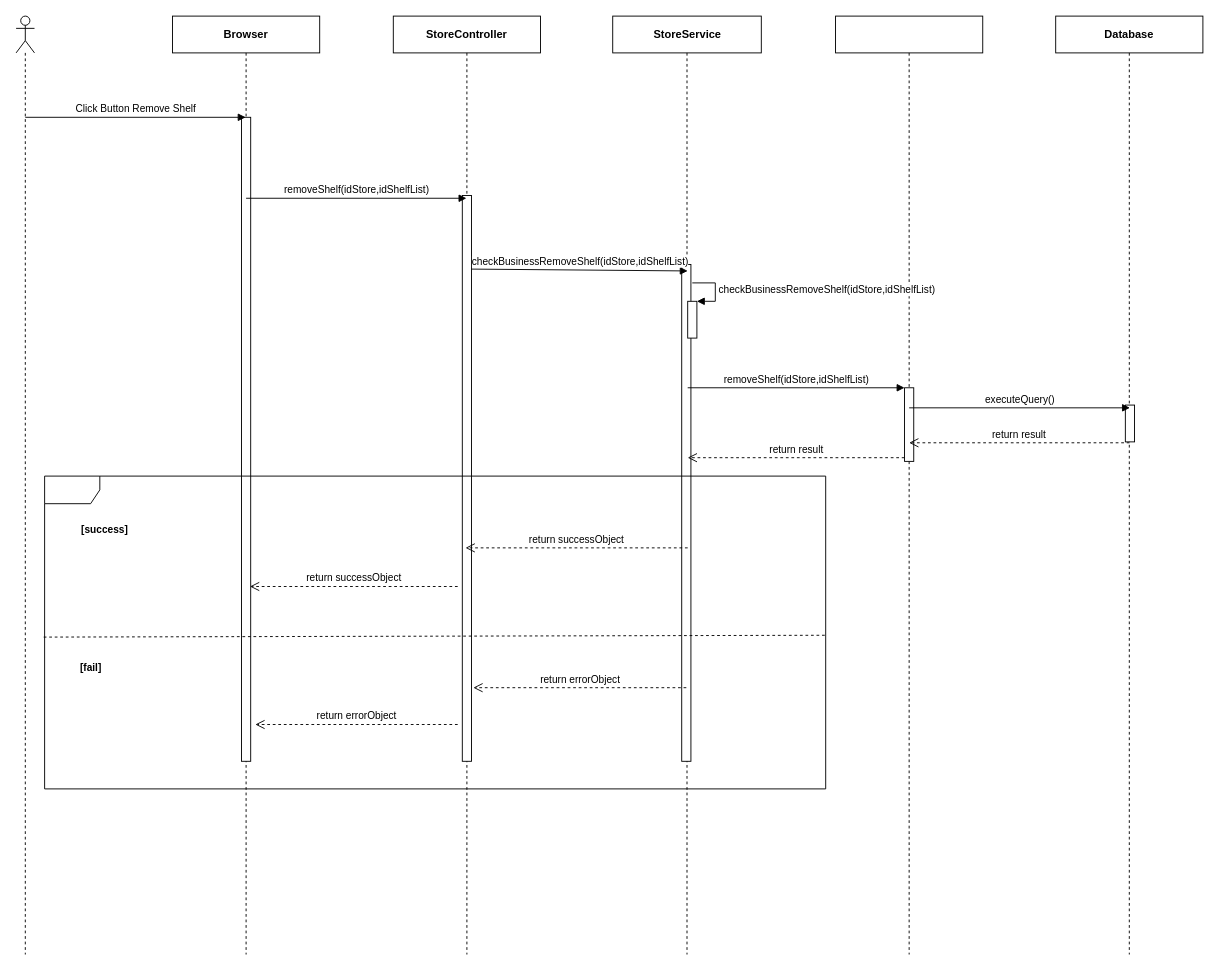
The diagram is 1219 pixels wide and 971 high, and some of its shapes have lost their labels. The shapes that lost their labels are listed below. From the top down, each one's box as (x1, y1, x2, y2) in pixels, then its label:
(835, 15, 983, 954): StoreDao
(44, 475, 826, 789): alt
